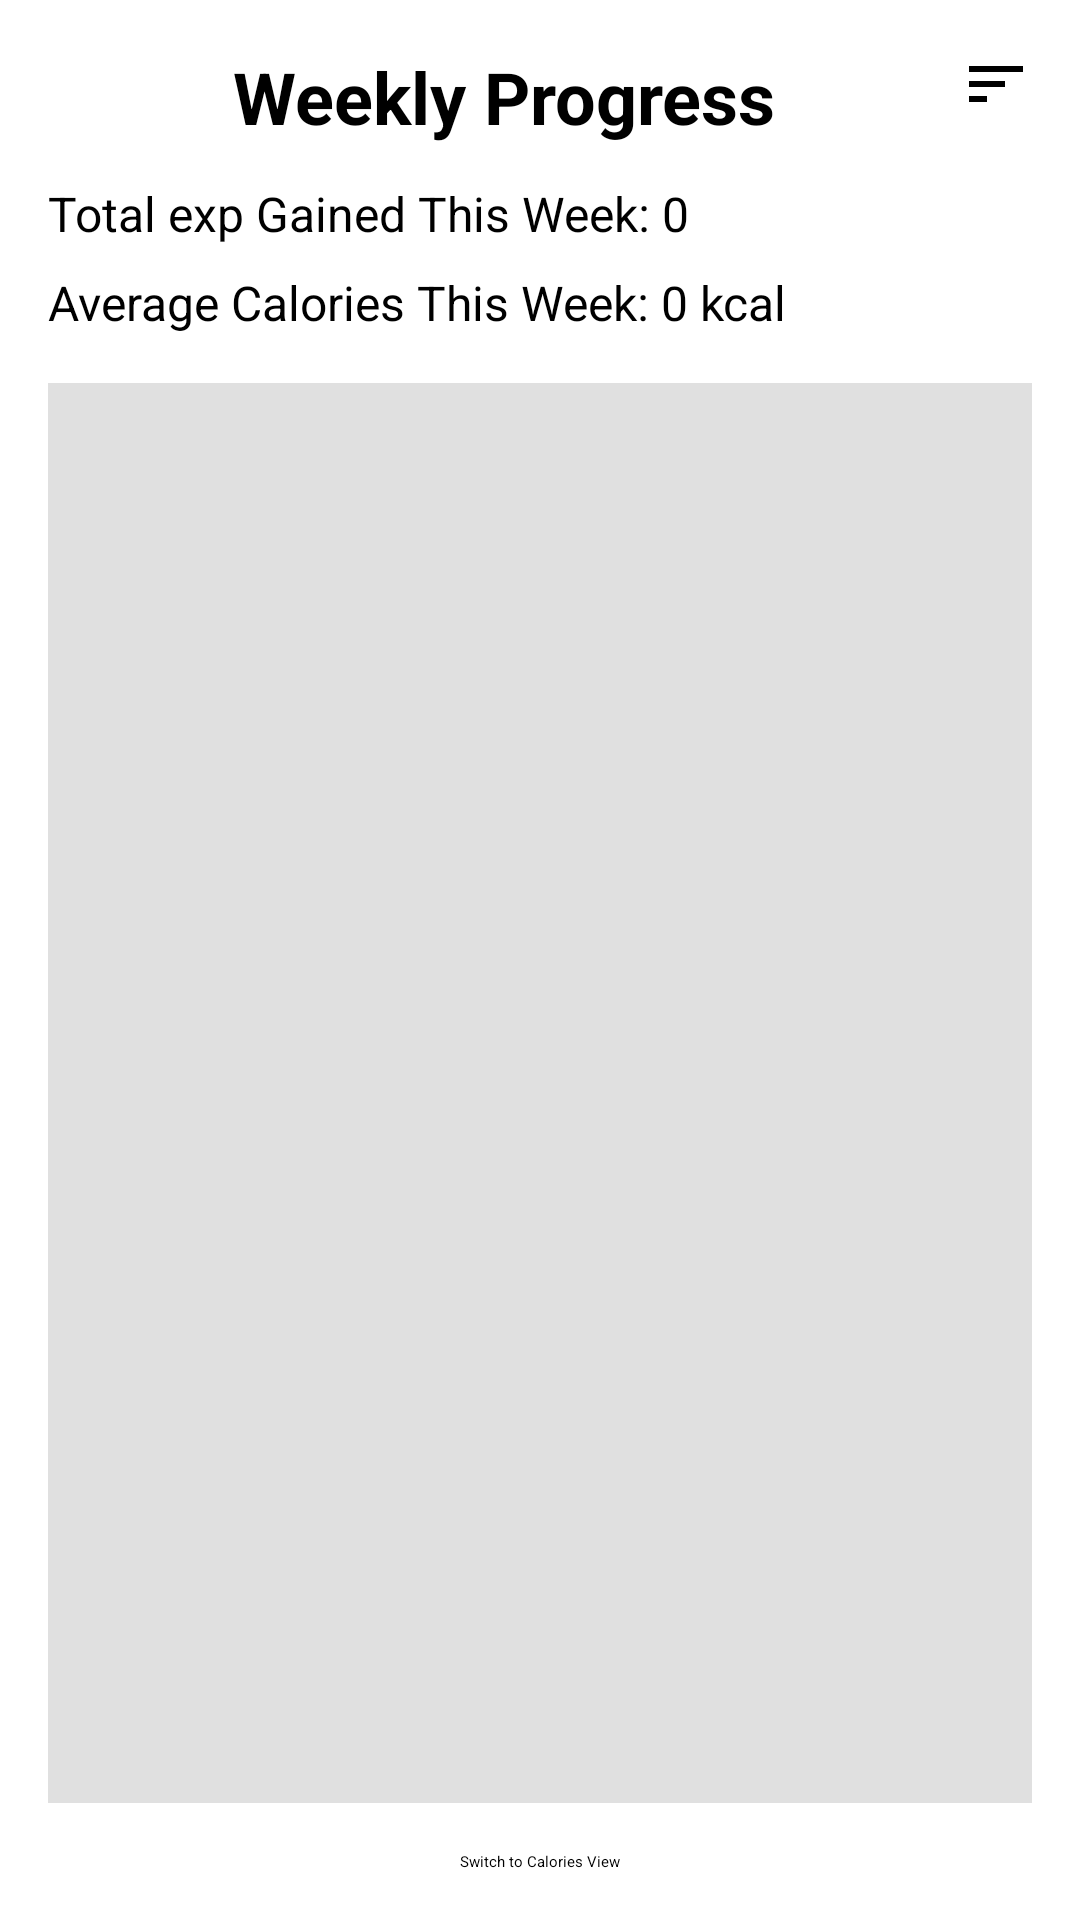

Named icons in this screenshot (1080w x 1920h) and their centers, [x,y]:
Filter: [996,84]
